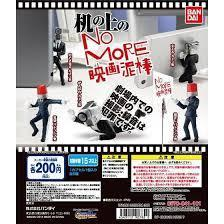no more kid: (75, 100, 103, 126)
